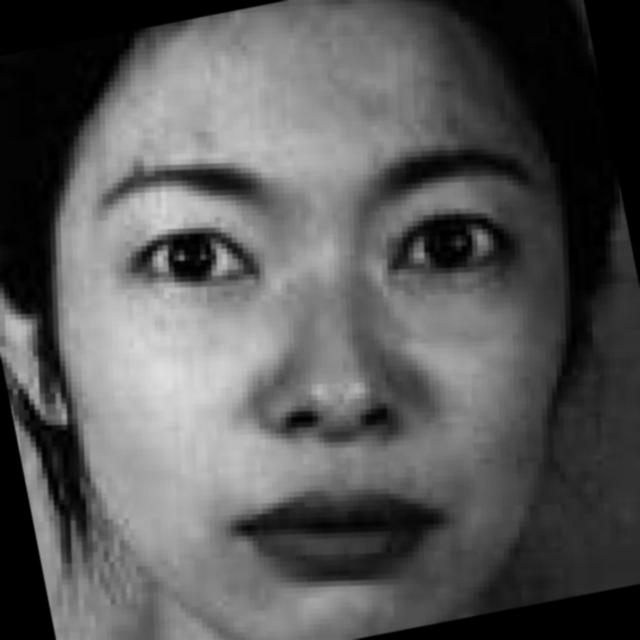fear: (30, 6, 591, 640)
